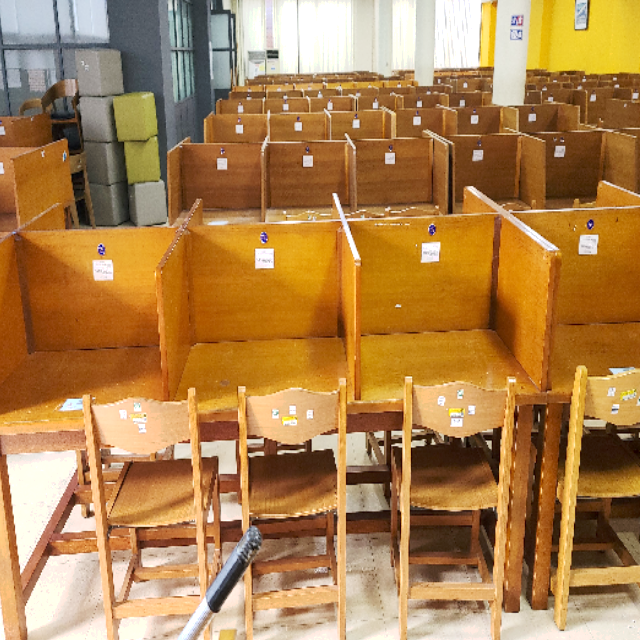empty: (176, 214, 352, 525), (360, 209, 550, 492), (6, 218, 167, 545)
